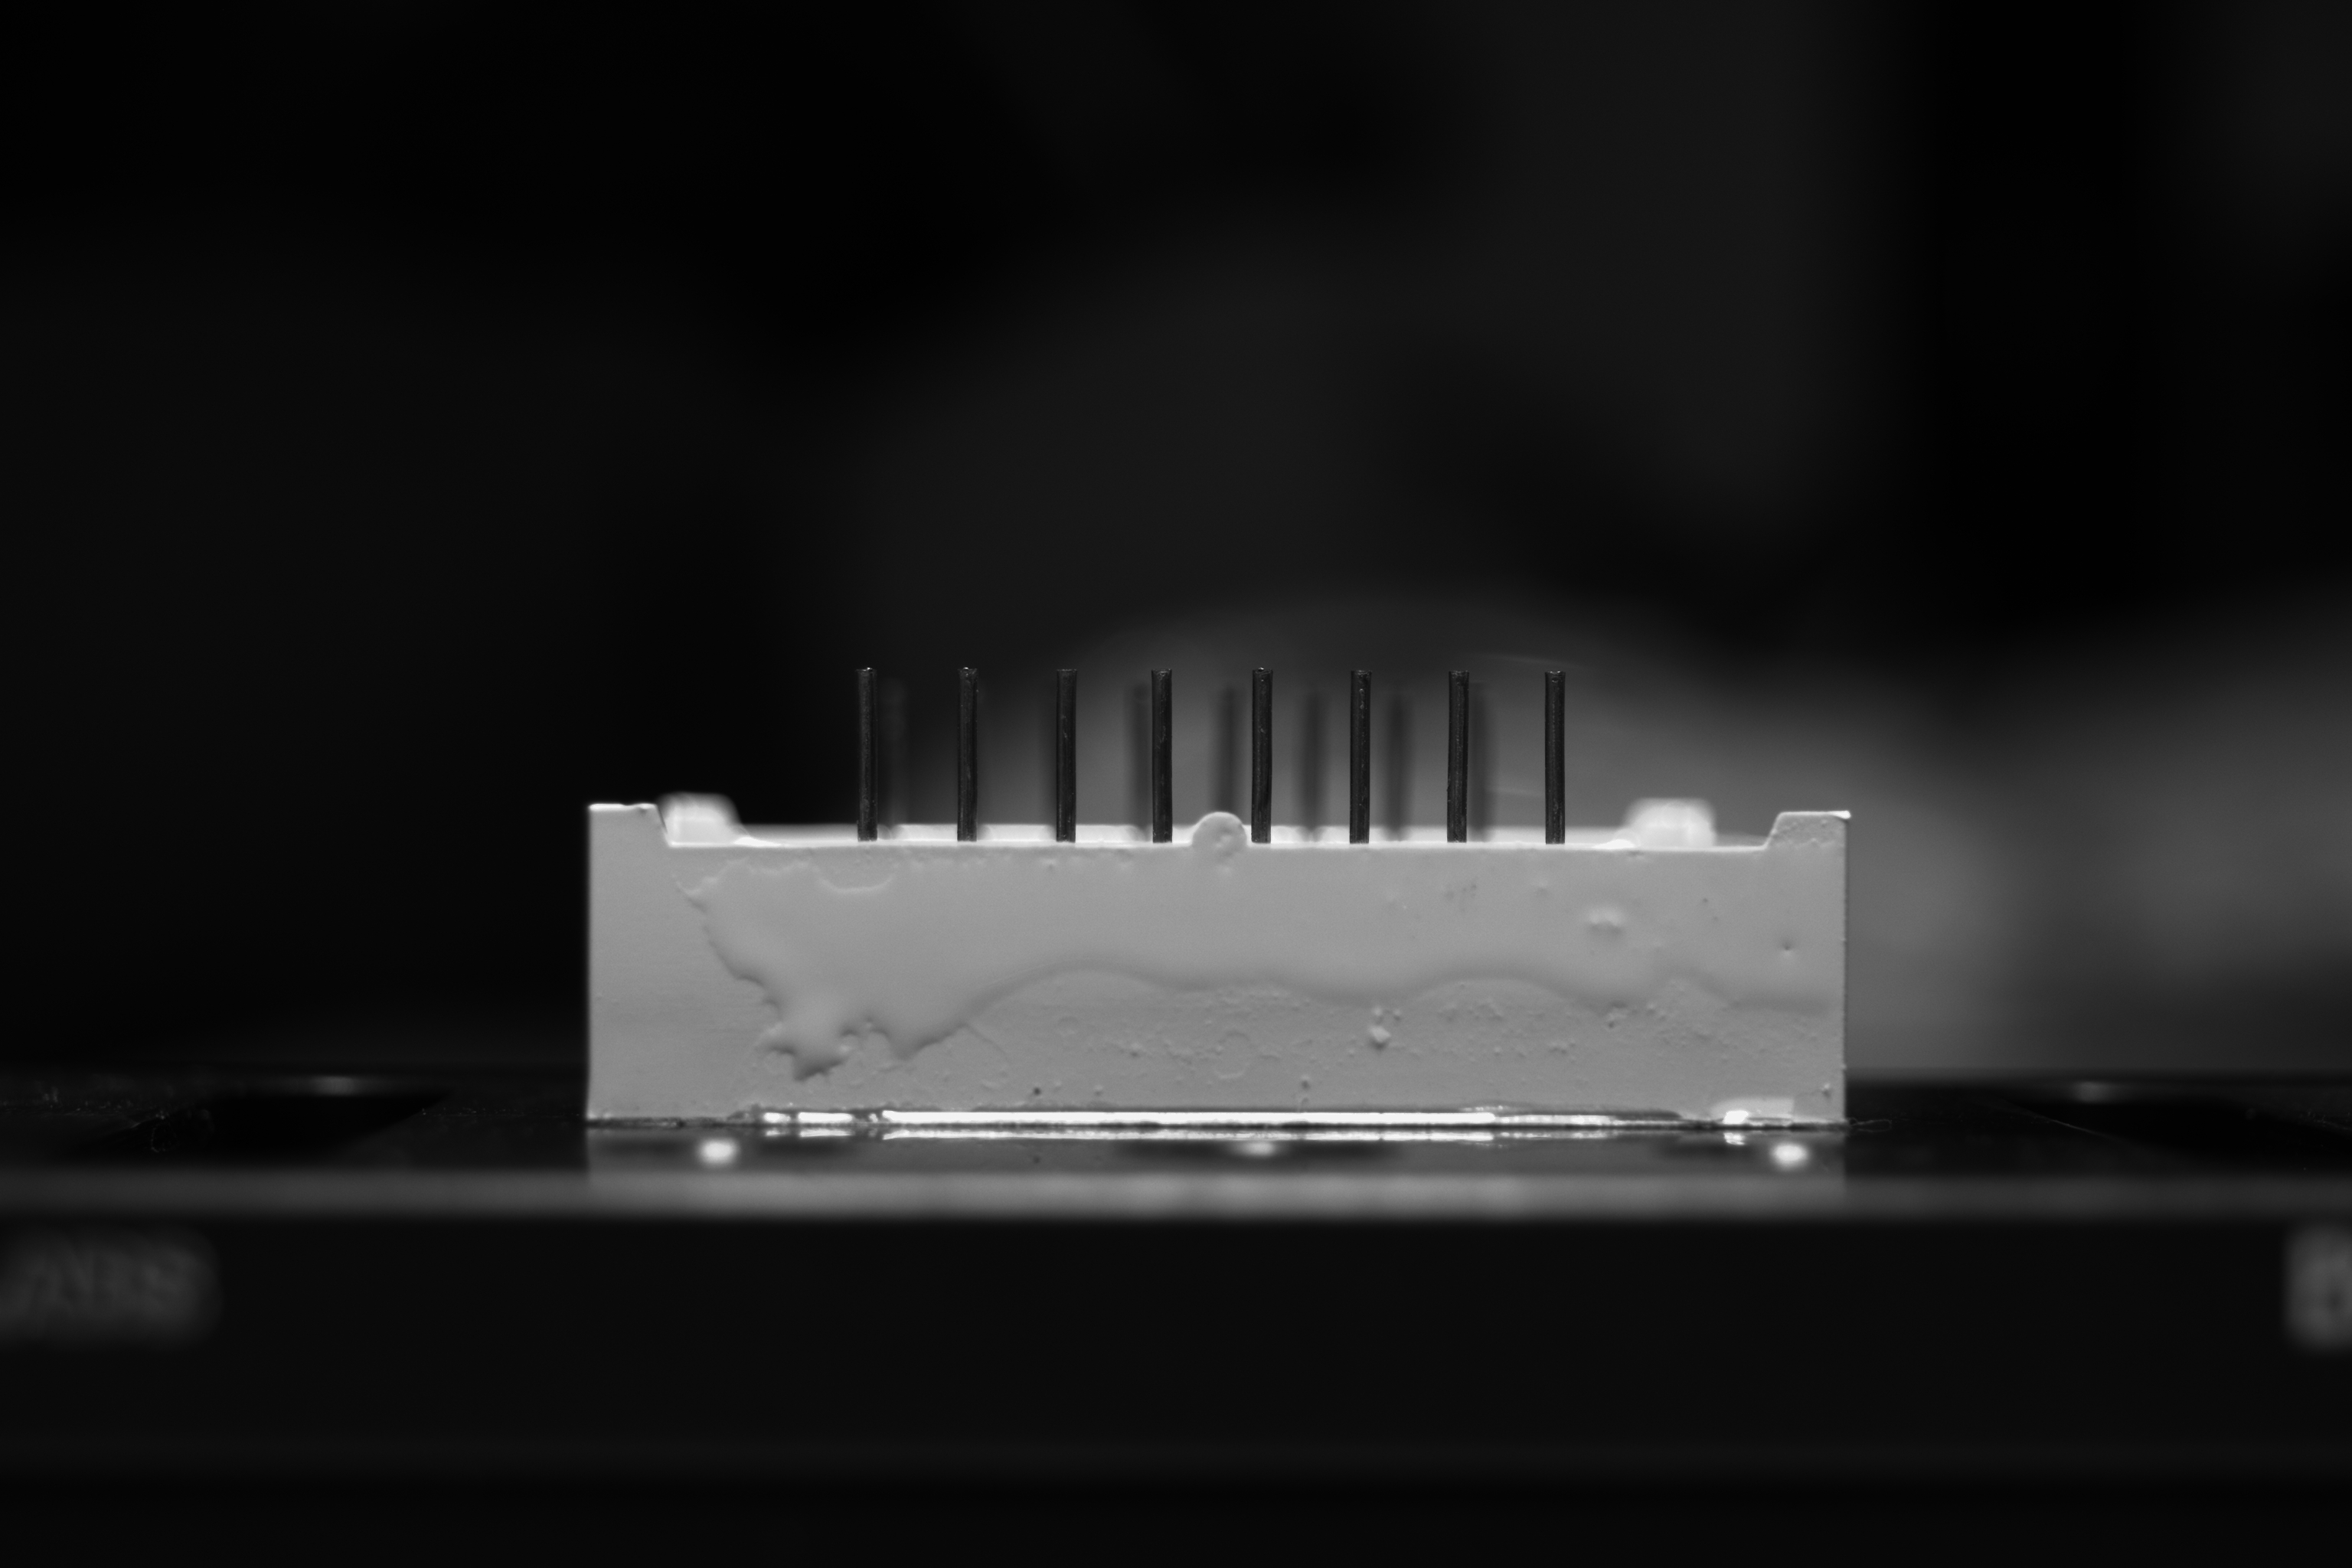glue: (695, 849, 1850, 1078)
